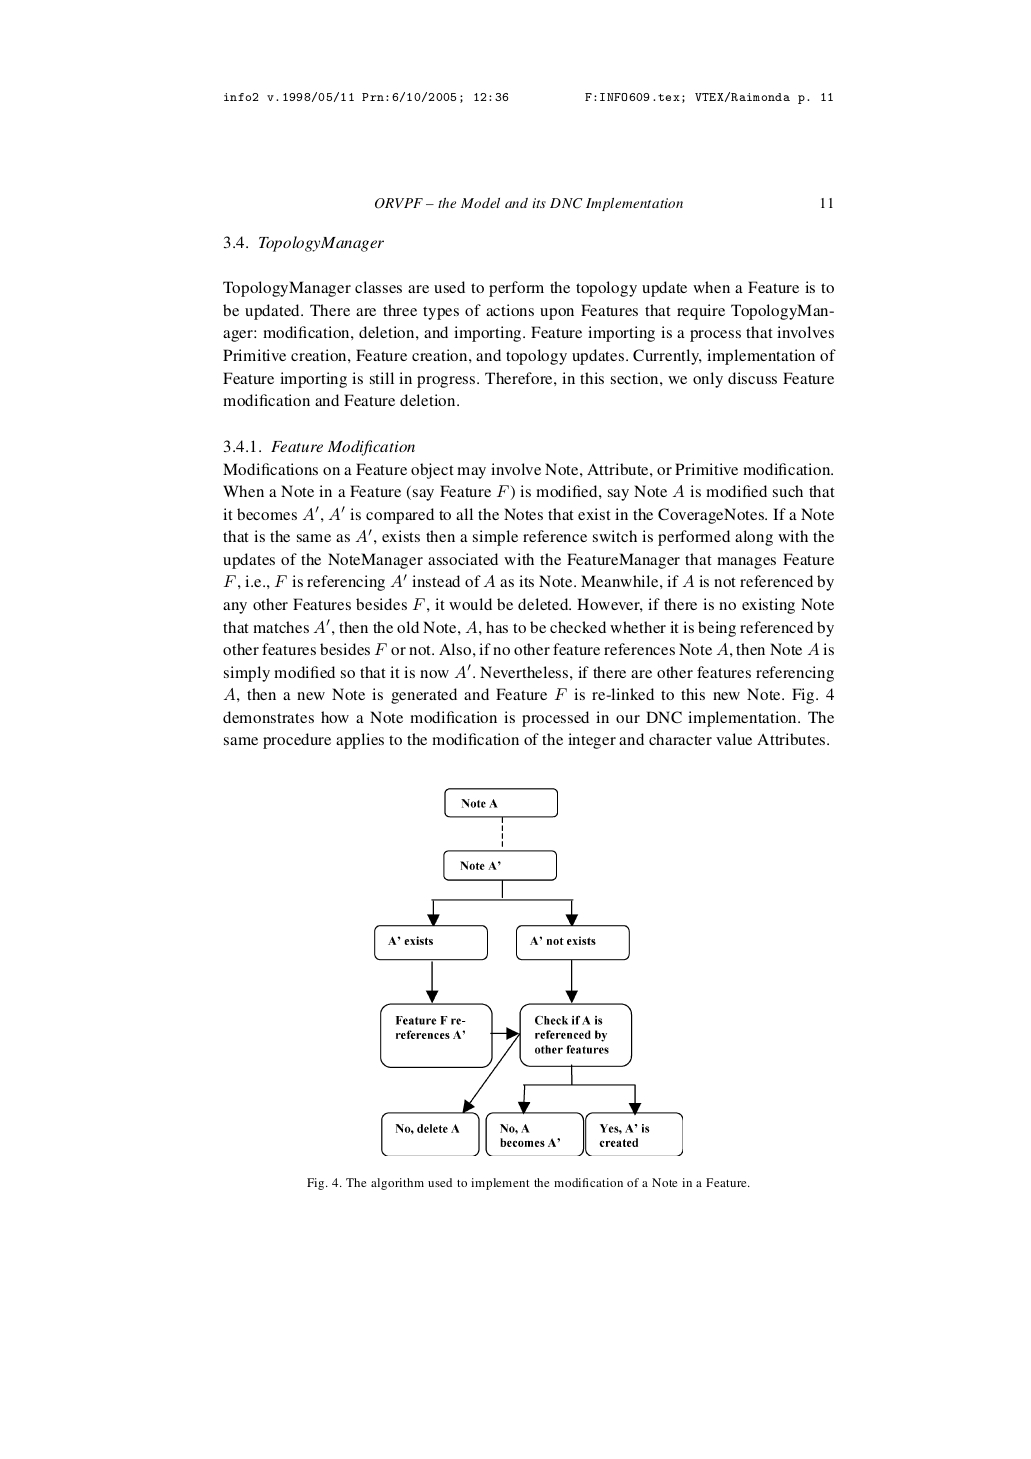figure: (374, 788, 682, 1154)
